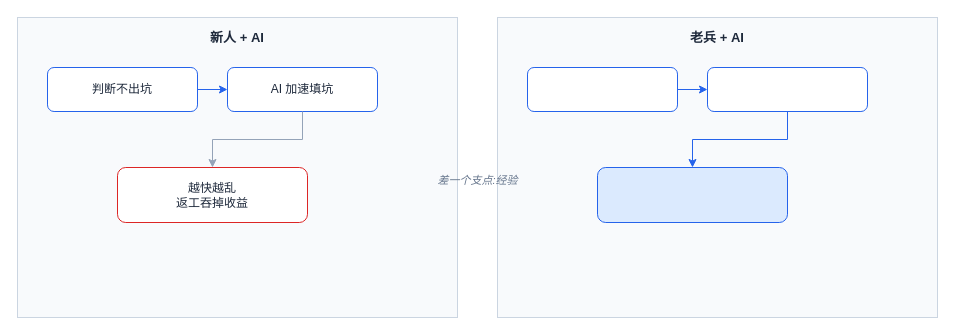
This 955x335 diagram has some shape labels left out. The centre of each missing label's shape, as x and y in pixels:
"AI 加速正确的事" goes at (787,89).
"快而不乱 产能可持续" goes at (692,194).
"经验定位风险" goes at (602,89).
